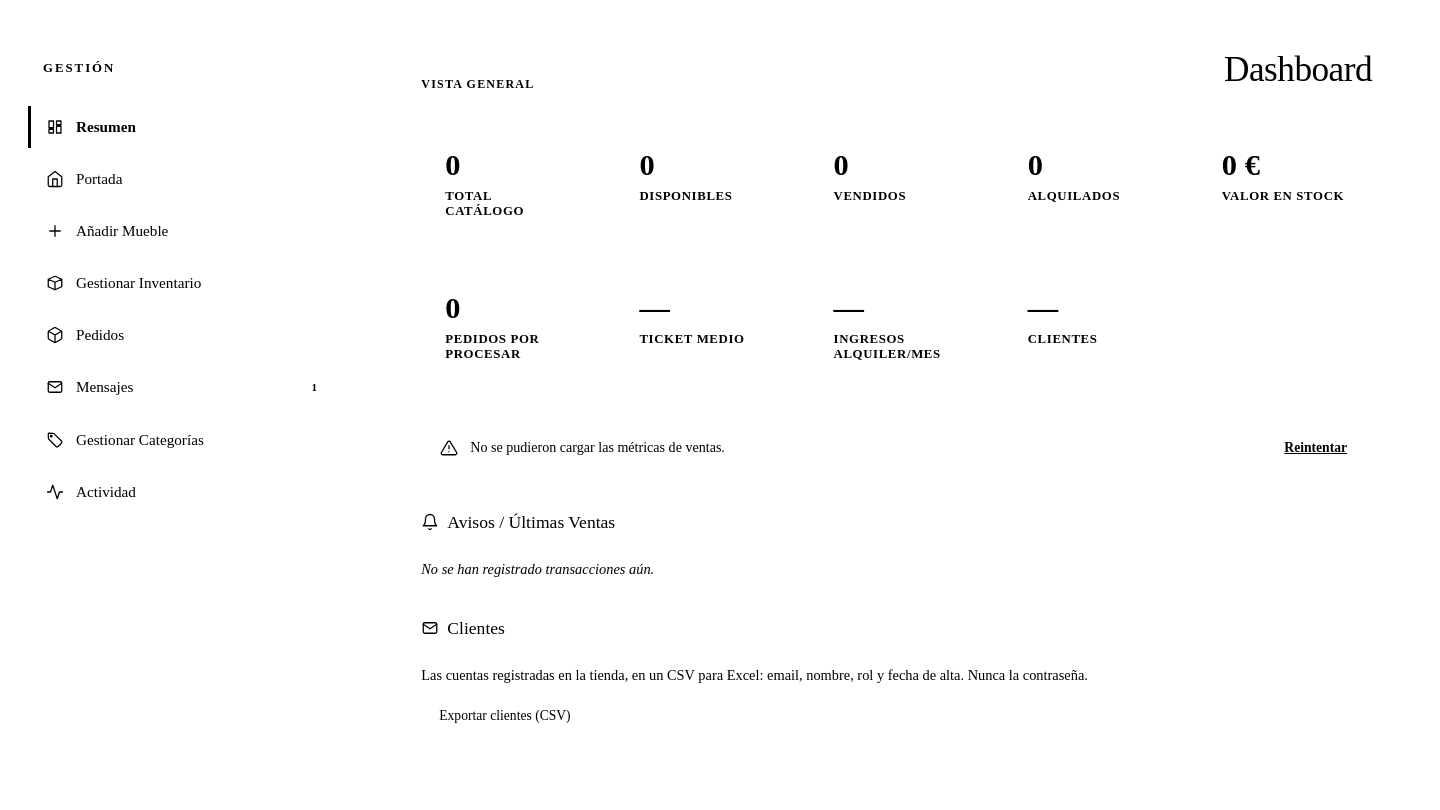
Test case: Mensajes — el mensaje entero › pulsar una fila abre el mensaje completo, con su email para responder
Click the button "Mensajes 1".
click(105, 387)  # box [28,366,341,409]
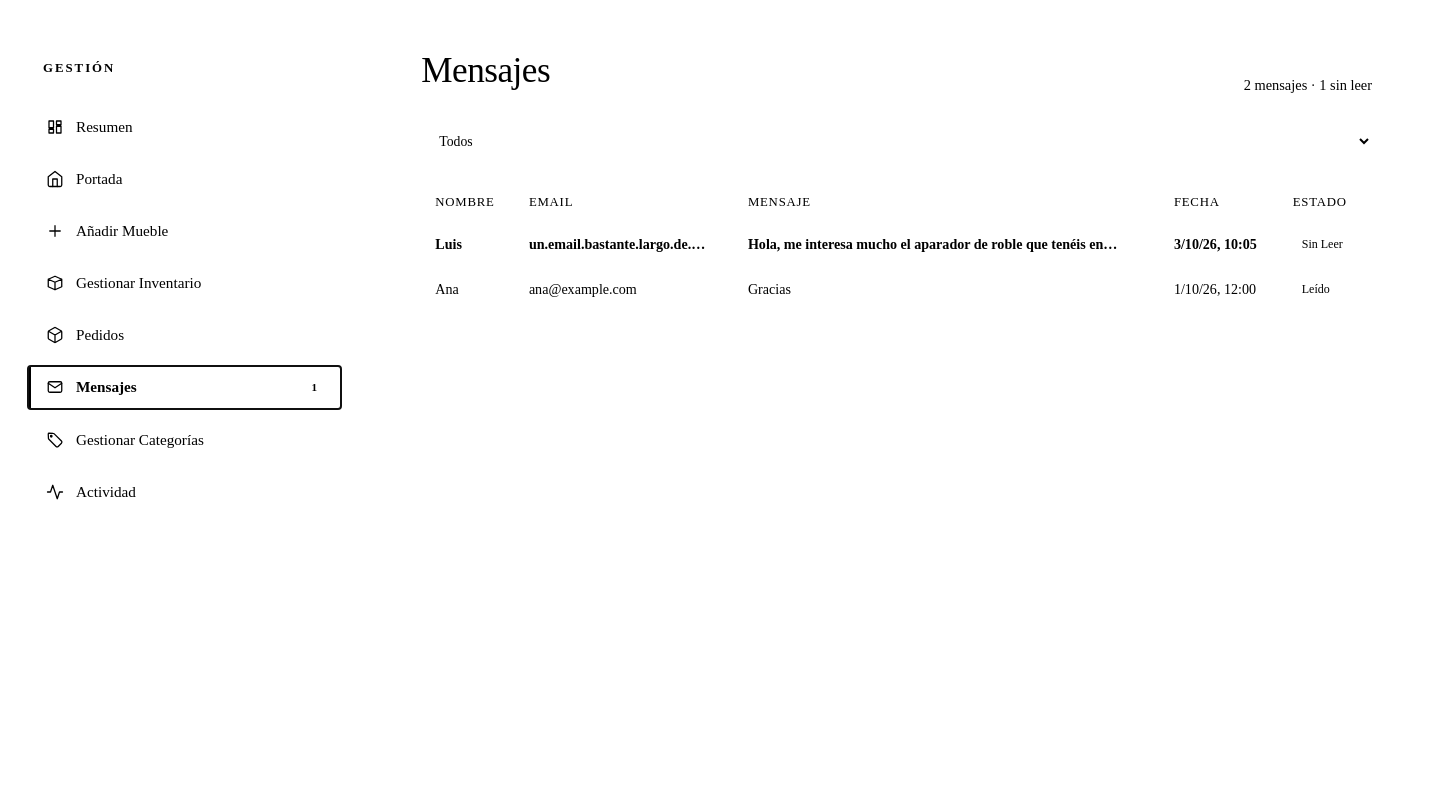
Click the text "Hola, me interesa mucho el aparador de roble que tenéis en…".
click(947, 245)  # box [734,222,1160,267]
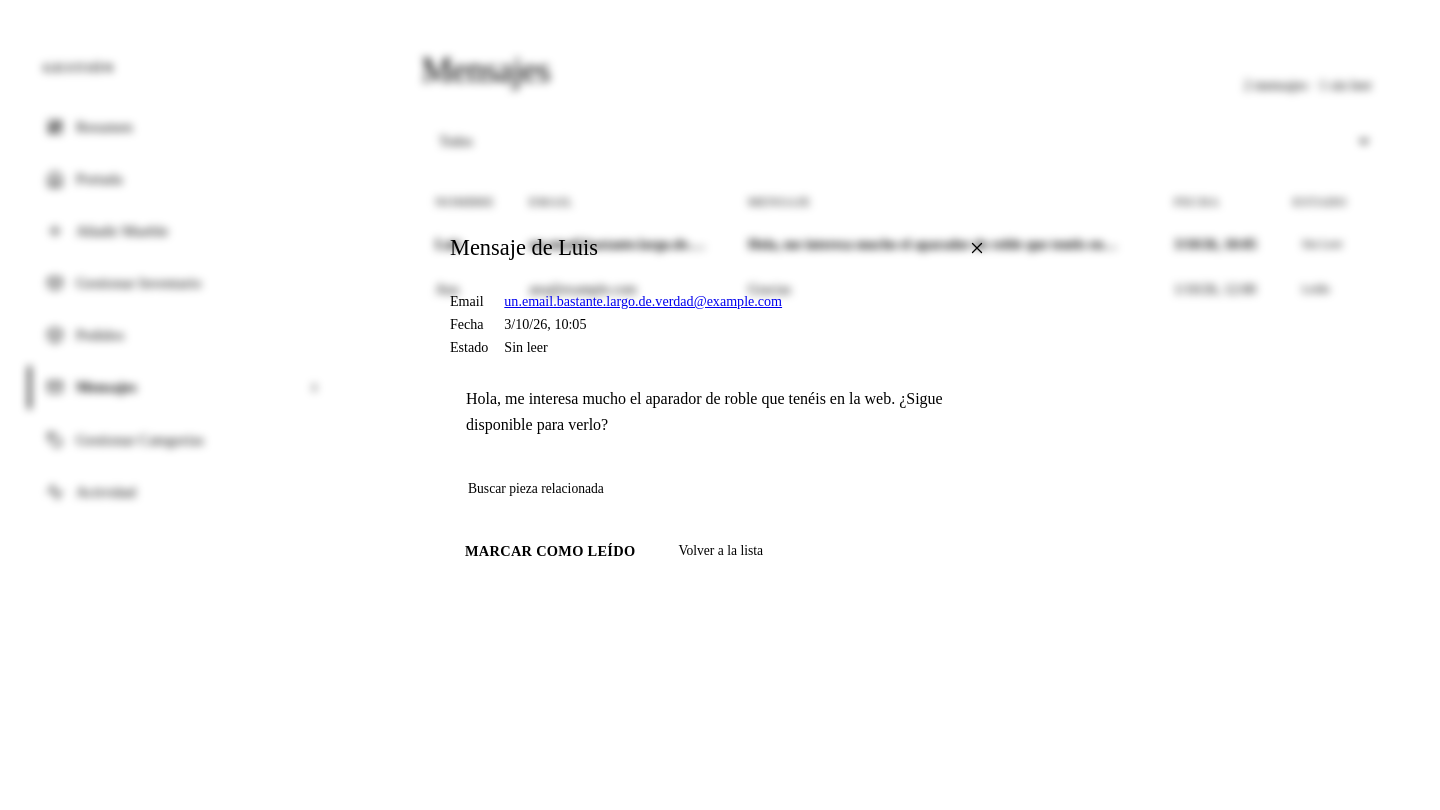
Check: the text "Hola, me interesa mucho el aparador de roble que tenéis en la web. ¿Sigue disponible para verlo?" is shown, box [466,390,947,433]
Check: the text "Sin leer" is shown, box [504,339,548,355]
